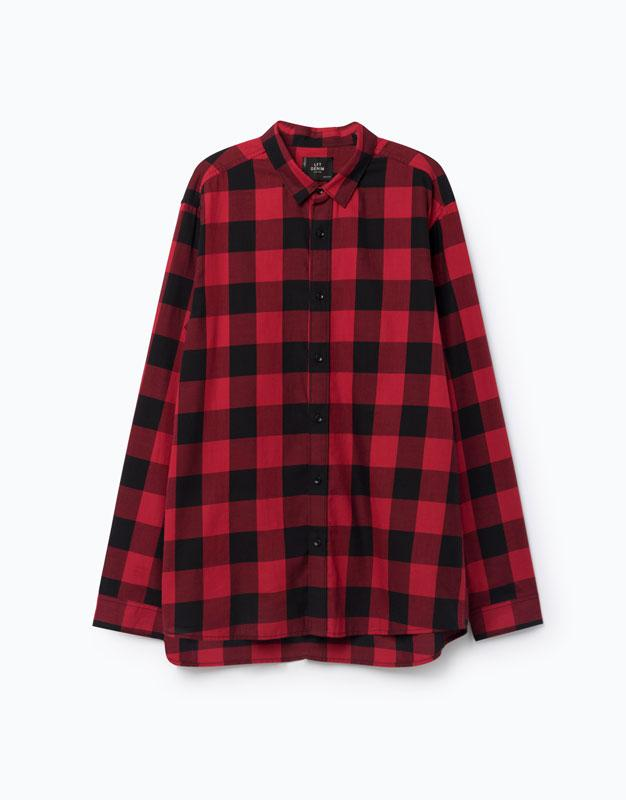teeshirt: (92, 116, 550, 687)
